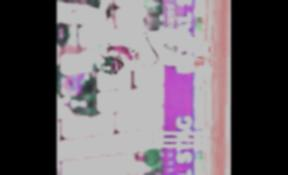batsman: (83, 10, 223, 94)
